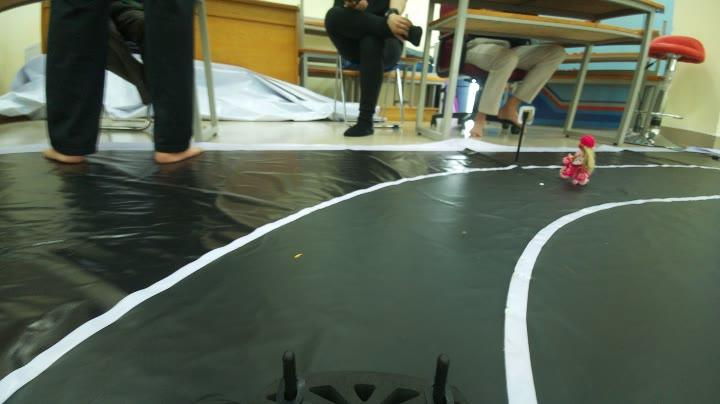pedestrian: (564, 129, 602, 199)
